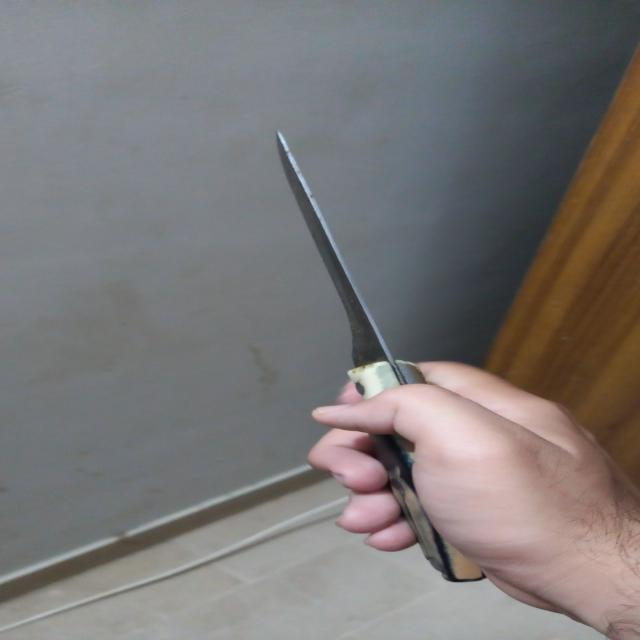knife: (257, 120, 491, 582)
